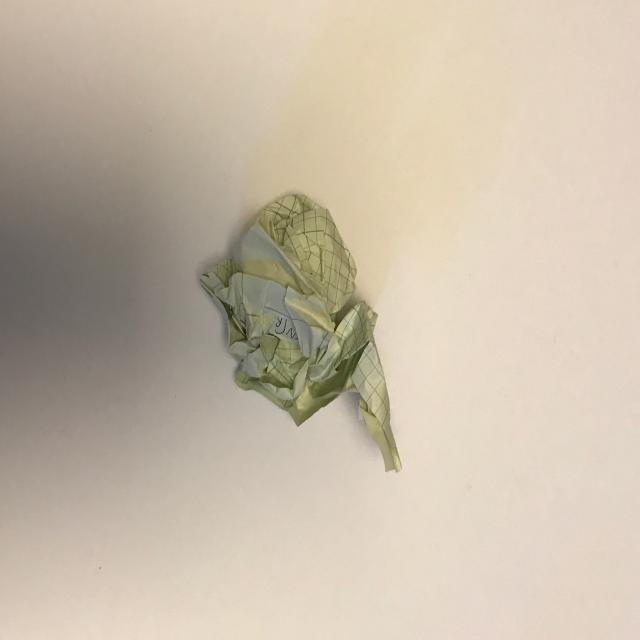paper: (185, 174, 421, 496)
